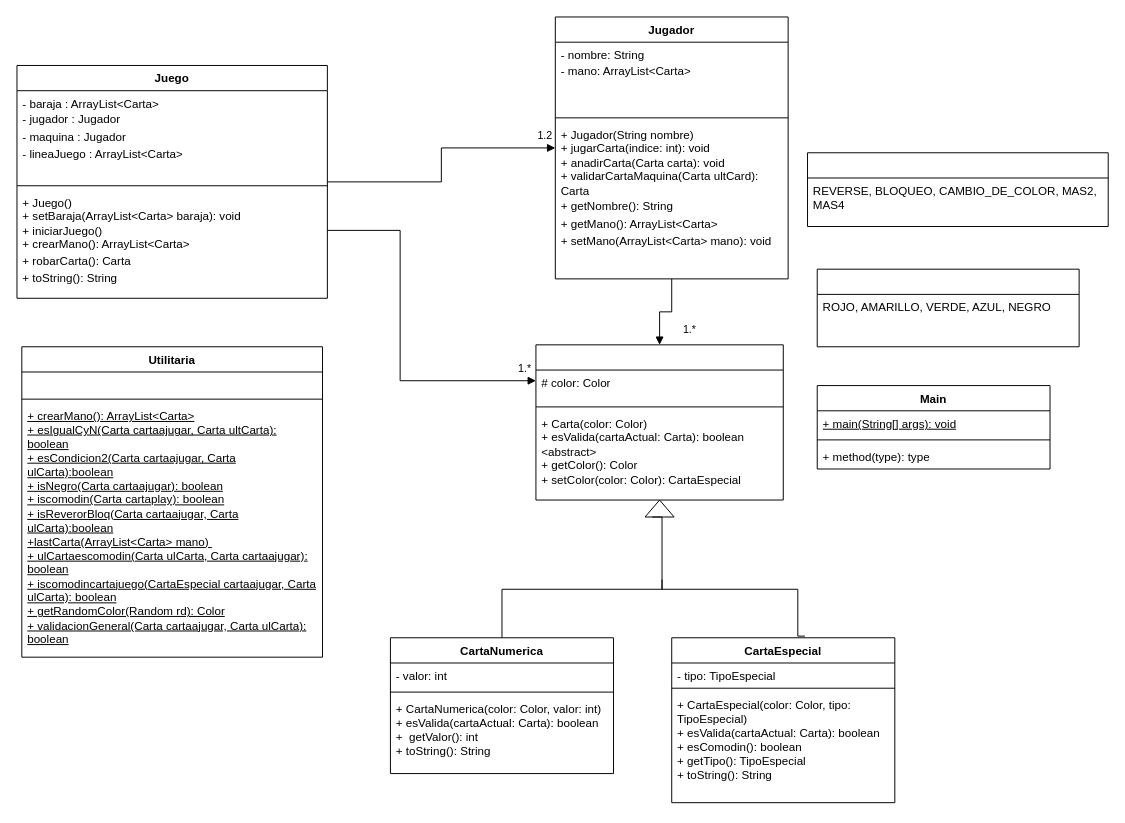
Some shapes in this 1125 by 823 pixel diagram are drawn without their labels. Here are the shapes that lost their labels. From the top down, the box of each, then its label:
(807, 152, 1108, 226): TipoEspecial <enum>
(816, 268, 1079, 347): Color <enum>
(535, 344, 783, 500): Carta <abstract>
